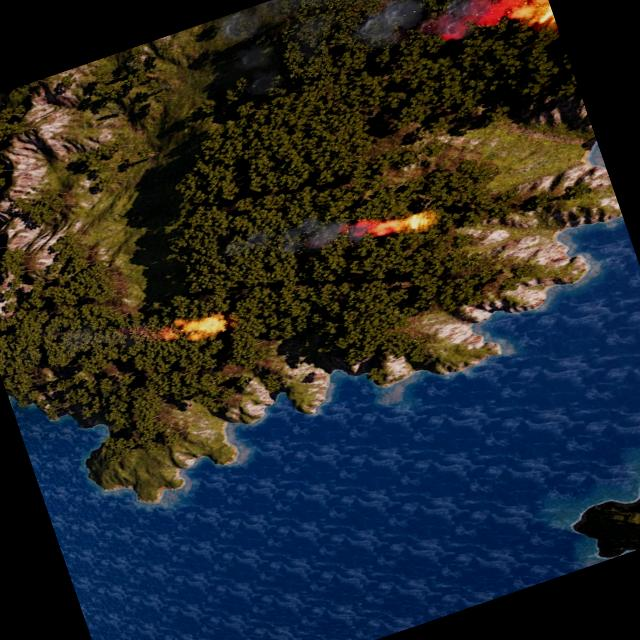fire: (369, 204, 432, 242), (179, 305, 228, 342), (505, 0, 555, 33)
smoke: (216, 0, 535, 111), (228, 196, 376, 282), (60, 294, 182, 374)
